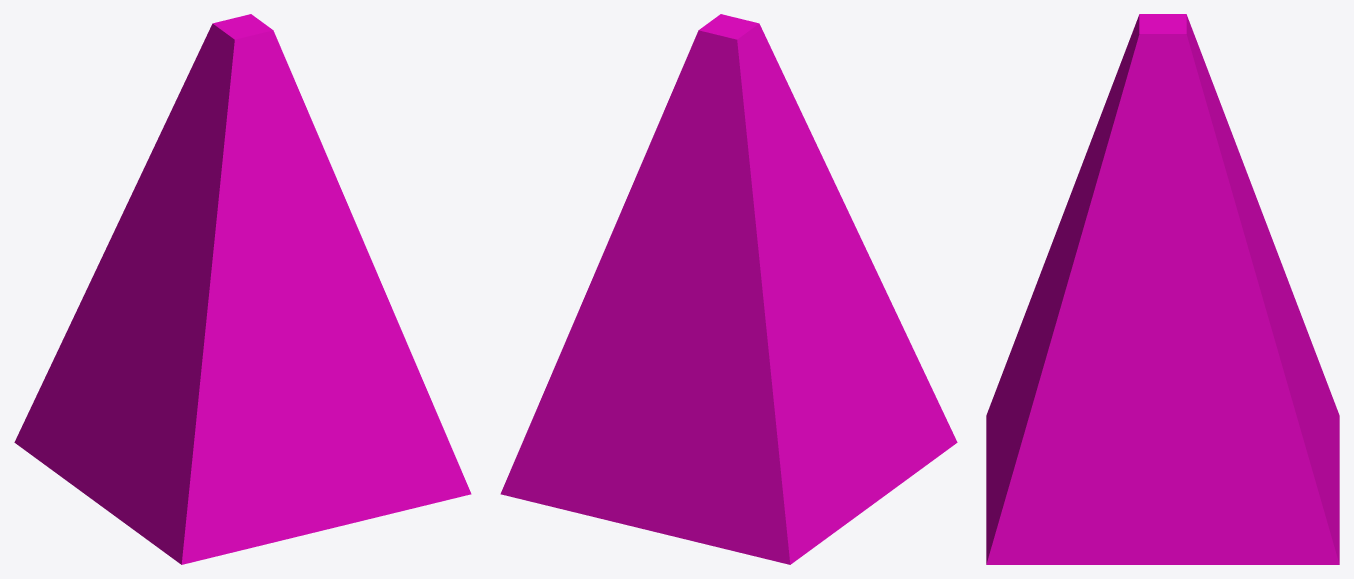
The model's file is prop_cone_collider.FBX.
3 renders of one model, left to right at view 1: azimuth 30°, elevation 25°; view 2: azimuth 150°, elevation 25°; view 3: azimuth 270°, elevation 25°, orthographic. The views are drawn at different scales.
Parts seen in each view (by area): view 1: prop_cone_collider; view 2: prop_cone_collider; view 3: prop_cone_collider.
Part boxes in pixels (bbox=[...]): prop_cone_collider: bbox=[14, 14, 471, 564]; prop_cone_collider: bbox=[500, 14, 957, 564]; prop_cone_collider: bbox=[986, 14, 1339, 564].
Bounding box in the file's own units: 27.05 × 39.37 × 27.03.
